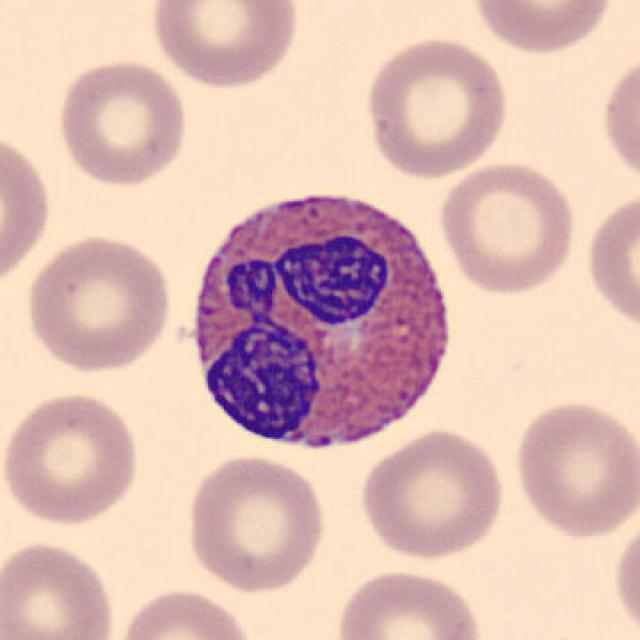Eosinophil: (180, 172, 464, 464)
RBC: (21, 229, 178, 376), (361, 32, 512, 180), (181, 452, 331, 594), (356, 425, 508, 562), (0, 388, 144, 529), (436, 159, 580, 296), (508, 397, 638, 541), (54, 54, 190, 190), (146, 0, 302, 92), (0, 537, 119, 640), (331, 566, 489, 640), (0, 125, 57, 295), (583, 185, 638, 339), (112, 583, 258, 640), (469, 0, 616, 56), (598, 48, 638, 192), (610, 506, 640, 640)
